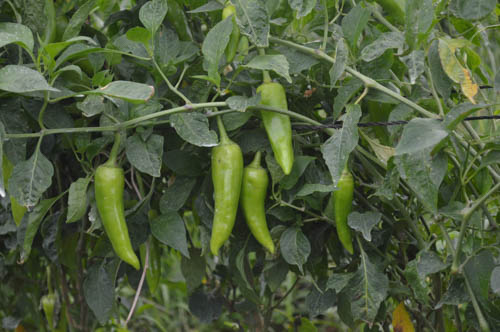ChiliPepper: (96, 165, 137, 268), (210, 144, 242, 255), (259, 84, 294, 172), (244, 170, 275, 251), (330, 176, 355, 252)
